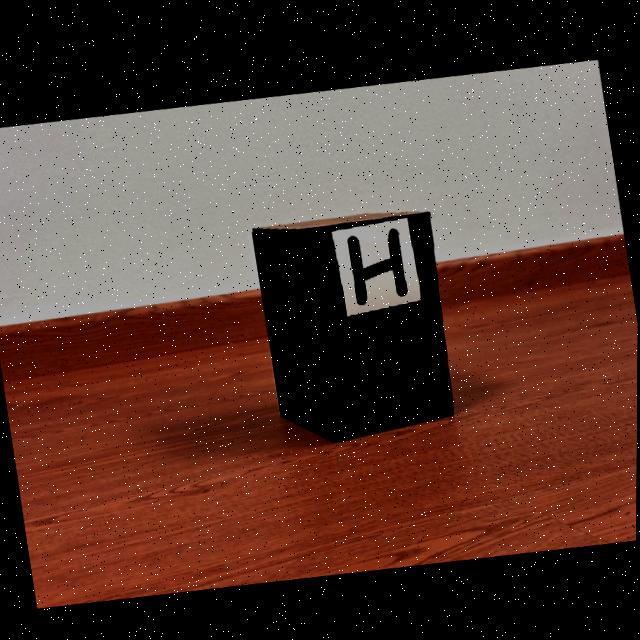H: (348, 225, 408, 302)
